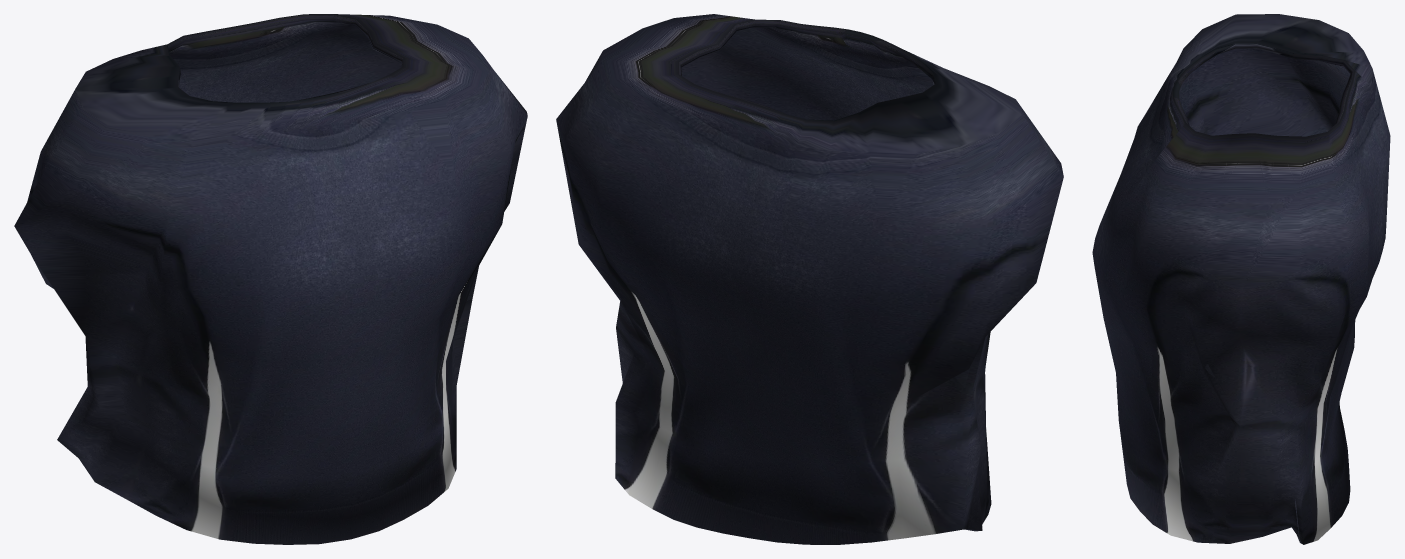
3 views of the same model, side by side, from view 1: azimuth 30°, elevation 25°; view 2: azimuth 150°, elevation 25°; view 3: azimuth 270°, elevation 25° (orthographic). The views are drawn at different scales.
Visible parts, largest first — view 1: garment; view 2: garment; view 3: garment.
Boxes of the visible parts, left/top/right/bottom form: garment: left=14, top=14, right=527, bottom=544; garment: left=556, top=14, right=1063, bottom=544; garment: left=1092, top=14, right=1390, bottom=544.
Size of the model in its own units: 0.5588 by 0.4781 by 0.3265.
1 material, 1 textured.
